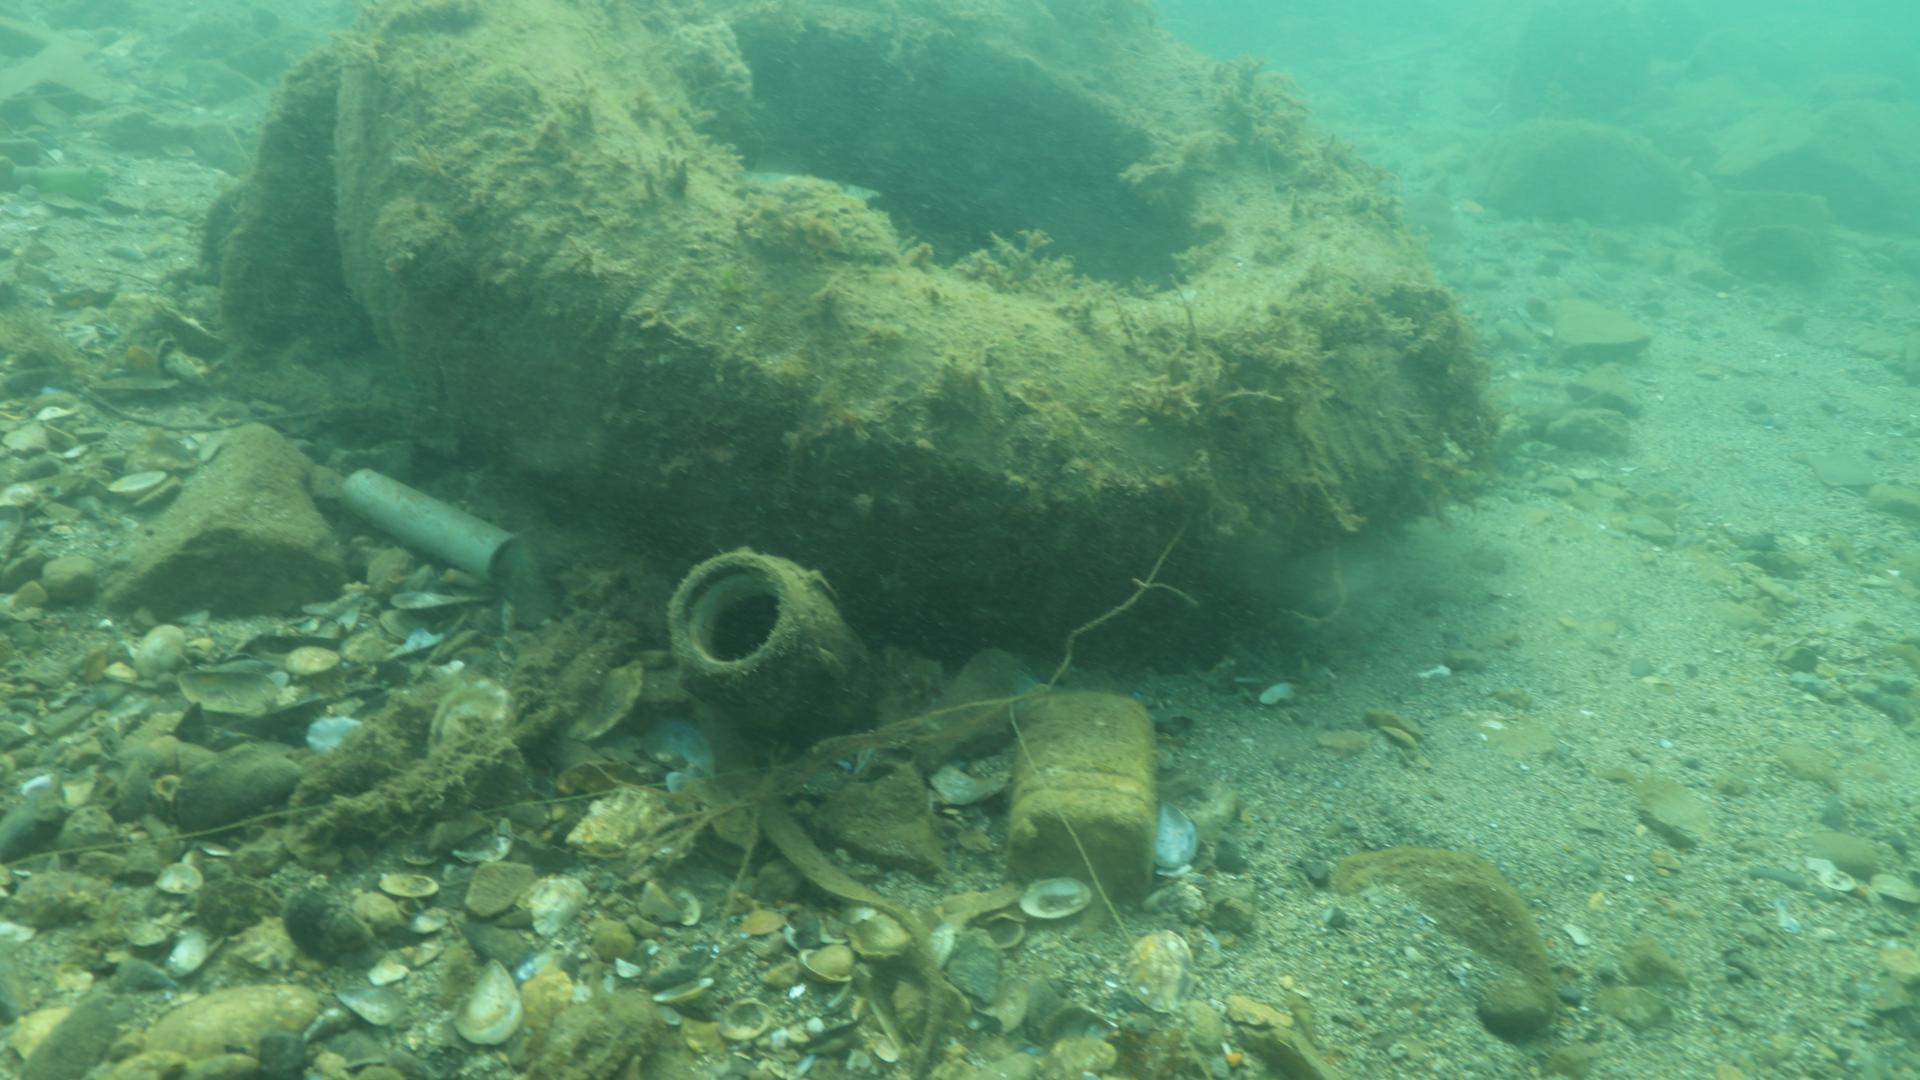tire: (334, 0, 1443, 637)
